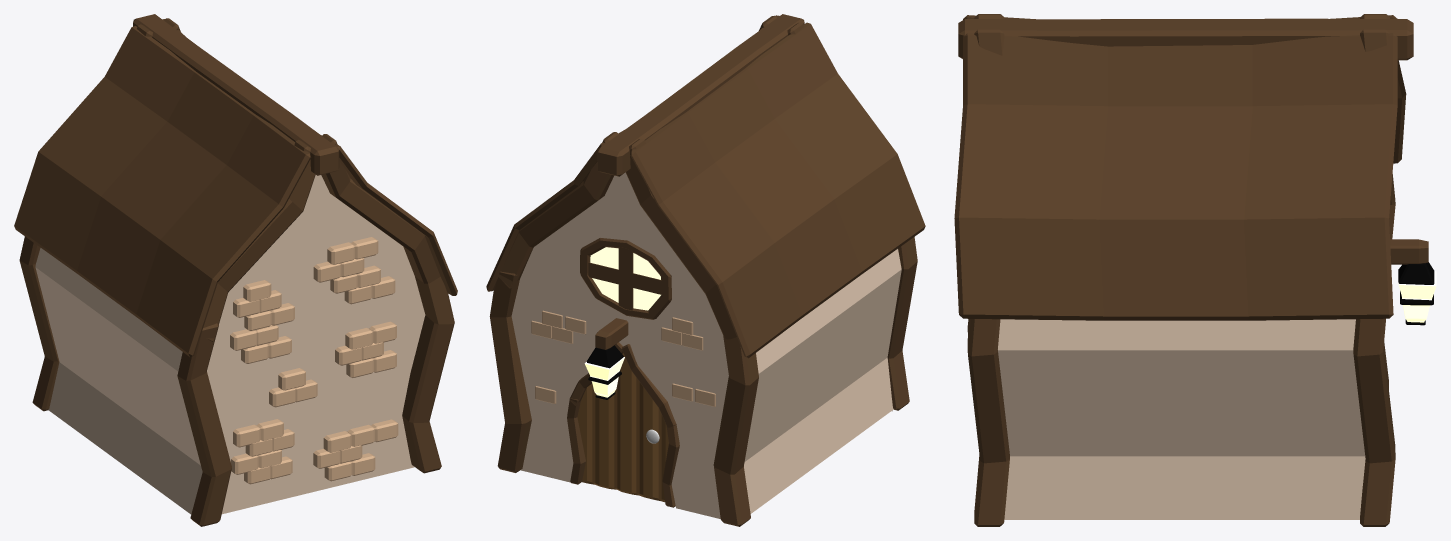
Rendered from Texture_House.fbx.
3 renders of one model, left to right at view 1: azimuth 30°, elevation 25°; view 2: azimuth 150°, elevation 25°; view 3: azimuth 270°, elevation 25°, orthographic. The views are drawn at different scales.
Visible parts, largest first — view 1: Plane.001, Plane, Plane.002, Cube.008, Cube.009, Cube.012, Cube.011, Cube.010, Cube.001, Plane.003, Cube.029, Cube.063 (+4 smaller); view 2: Plane.001, Plane.014, Plane.002, Plane.007, Cube.012, Cube.001, Cube, Cube.003, Cube.002, Cube.009, Plane.011, Plane.012 (+9 smaller); view 3: Plane.003, Plane.004, Cube.012, Cube, Cube.008, Cube.068, Cube.064, Plane.001, Cube.067, Cube.011.
Boxes of the visible parts, x1,y1,x2,y2 form: Plane.001: (14, 26, 311, 357); Plane: (207, 175, 425, 514); Plane.002: (35, 248, 202, 514); Cube.008: (402, 277, 454, 473); Cube.009: (177, 323, 231, 526); Cube.012: (133, 14, 339, 175); Cube.011: (321, 134, 440, 283); Cube.010: (203, 139, 315, 341); Cube.001: (19, 236, 59, 411); Plane.003: (162, 19, 457, 295); Cube.029: (233, 424, 260, 447); Cube.063: (278, 368, 305, 390); Plane.001: (630, 22, 925, 358); Plane.014: (511, 172, 728, 518); Plane.002: (744, 249, 901, 513); Plane.007: (577, 353, 668, 502); Cube.012: (597, 14, 804, 176); Cube.001: (713, 335, 758, 526); Cube: (489, 271, 531, 472); Cube.003: (498, 132, 618, 288); Cube.002: (626, 138, 736, 339); Cube.009: (887, 237, 917, 410); Plane.011: (580, 238, 671, 319); Plane.012: (590, 247, 660, 310); Plane.003: (954, 33, 1397, 320); Plane.004: (998, 319, 1365, 519); Cube.012: (958, 18, 1413, 60); Cube: (1353, 318, 1395, 526); Cube.008: (967, 319, 1009, 526); Cube.068: (1398, 271, 1436, 322); Cube.064: (1390, 239, 1428, 264); Plane.001: (963, 15, 1406, 163); Cube.067: (1398, 262, 1434, 284); Cube.011: (974, 29, 1004, 55).
Bounding box in the file's own units: 485 × 619 × 622.
